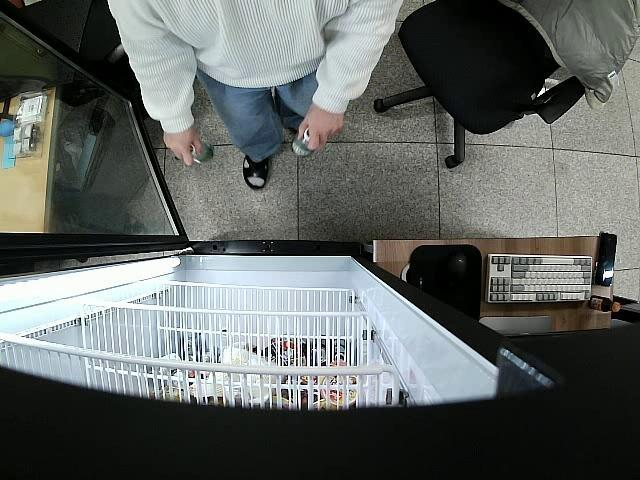18_trevi: (292, 127, 316, 158), (188, 144, 214, 162)
